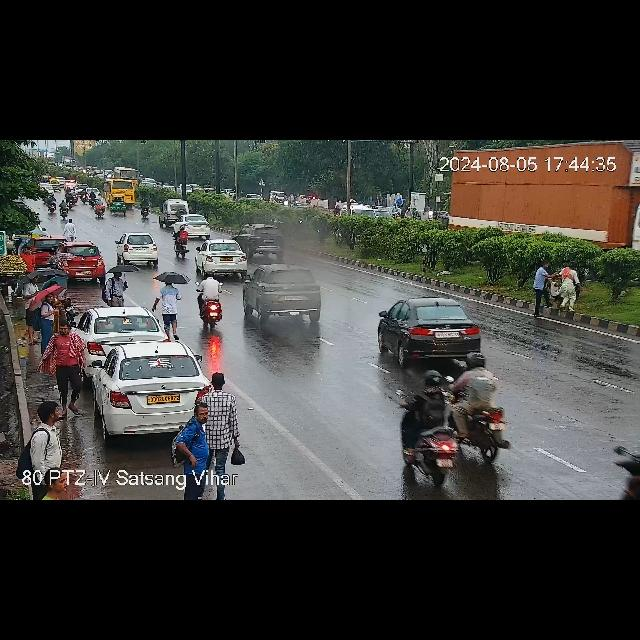bus: (104, 180, 136, 207)
car: (91, 340, 207, 438), (377, 296, 491, 366), (242, 264, 328, 324), (81, 306, 169, 344), (36, 234, 102, 278), (196, 239, 250, 275), (240, 225, 288, 257), (63, 244, 105, 280), (116, 233, 162, 264), (172, 213, 212, 237), (159, 199, 191, 223), (108, 194, 128, 216)
motorcycle: (397, 358, 457, 482), (453, 350, 507, 460), (196, 270, 228, 336), (611, 439, 640, 497), (176, 228, 194, 258), (91, 198, 109, 220), (43, 195, 57, 212), (60, 200, 72, 218), (141, 194, 149, 218), (92, 192, 96, 206)
person: (28, 402, 88, 500), (206, 370, 242, 496), (532, 260, 584, 320), (182, 395, 212, 495), (54, 320, 84, 416), (158, 276, 186, 336), (41, 291, 59, 347), (24, 276, 36, 346), (108, 272, 126, 304), (22, 242, 34, 272), (64, 217, 74, 241)
truck: (431, 140, 640, 246)
